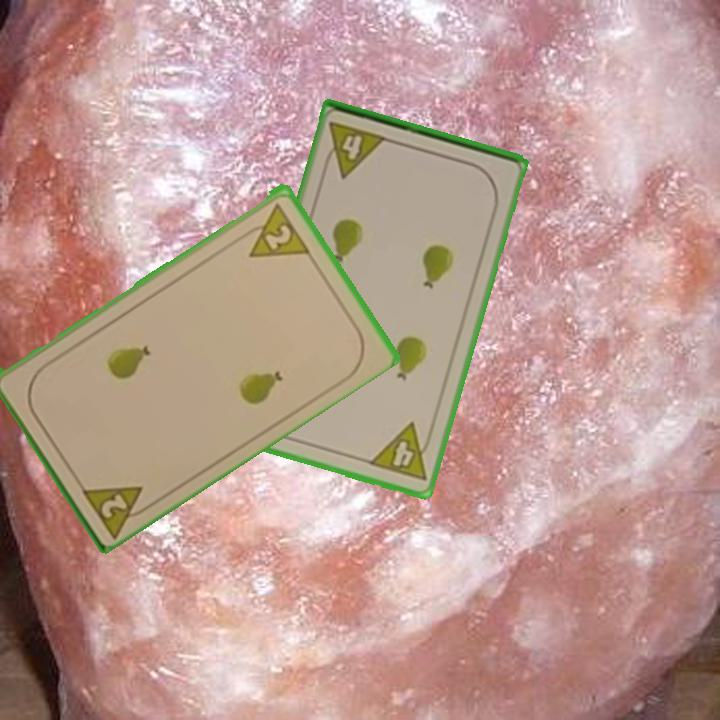2p: (236, 197, 312, 261), (76, 481, 157, 539)
4p: (365, 419, 437, 485), (319, 118, 390, 181)
